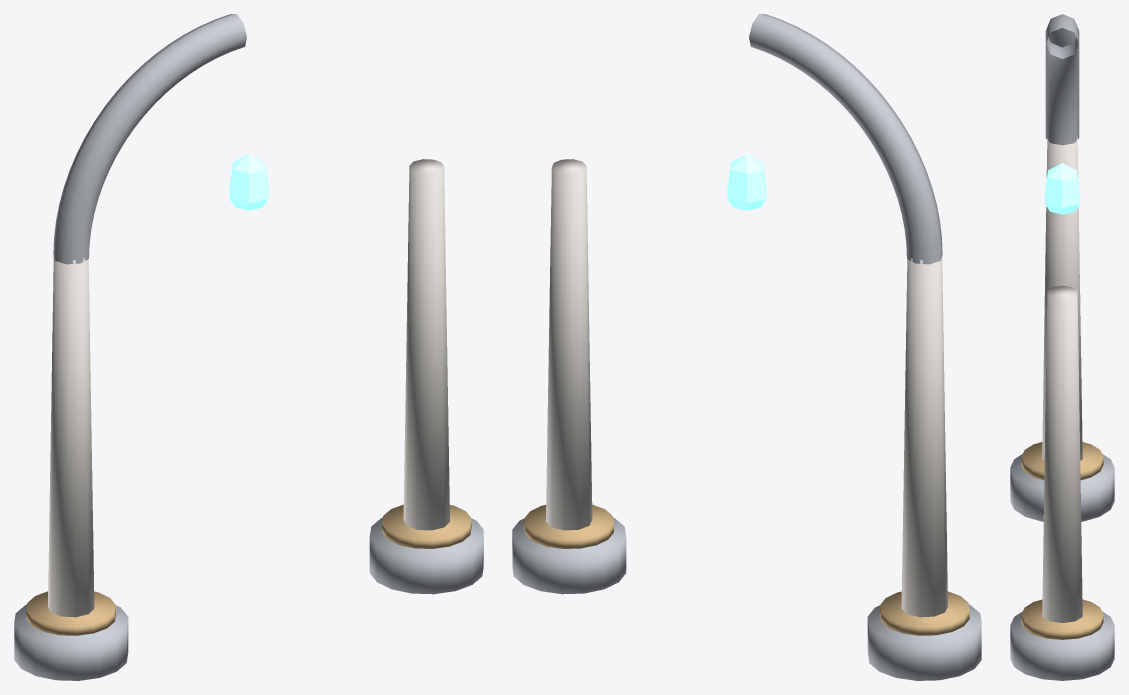
File: arc_broken_lyre_gate.glb
3 renders of one model, left to right at view 1: azimuth 30°, elevation 25°; view 2: azimuth 150°, elevation 25°; view 3: azimuth 270°, elevation 25°, orthographic. The views are drawn at different scales.
Visible parts, largest first — view 1: ARC_broken_lyre_gate_post_1, ARC_broken_lyre_gate_post_0, ARC_broken_lyre_gate_broken_left, ARC_broken_lyre_gate_foot_0, ARC_broken_lyre_gate_foot_1, ARC_broken_lyre_gate_gold_base_0, ARC_broken_lyre_gate_gold_base_1, ARC_broken_lyre_gate_fracture; view 2: ARC_broken_lyre_gate_post_1, ARC_broken_lyre_gate_post_0, ARC_broken_lyre_gate_broken_left, ARC_broken_lyre_gate_foot_0, ARC_broken_lyre_gate_foot_1, ARC_broken_lyre_gate_gold_base_0, ARC_broken_lyre_gate_gold_base_1, ARC_broken_lyre_gate_fracture; view 3: ARC_broken_lyre_gate_post_1, ARC_broken_lyre_gate_foot_1, ARC_broken_lyre_gate_post_0, ARC_broken_lyre_gate_broken_left, ARC_broken_lyre_gate_foot_0, ARC_broken_lyre_gate_gold_base_1, ARC_broken_lyre_gate_fracture, ARC_broken_lyre_gate_gold_base_0.
Boxes of the visible parts, x1=… form: ARC_broken_lyre_gate_post_1: x1=403, y1=159, x2=449, y2=530; ARC_broken_lyre_gate_post_0: x1=48, y1=252, x2=94, y2=617; ARC_broken_lyre_gate_broken_left: x1=53, y1=14, x2=246, y2=264; ARC_broken_lyre_gate_foot_0: x1=14, y1=604, x2=128, y2=680; ARC_broken_lyre_gate_foot_1: x1=369, y1=517, x2=483, y2=594; ARC_broken_lyre_gate_gold_base_0: x1=26, y1=591, x2=115, y2=635; ARC_broken_lyre_gate_gold_base_1: x1=382, y1=504, x2=471, y2=548; ARC_broken_lyre_gate_fracture: x1=229, y1=154, x2=268, y2=210; ARC_broken_lyre_gate_post_1: x1=546, y1=159, x2=592, y2=530; ARC_broken_lyre_gate_post_0: x1=901, y1=252, x2=947, y2=617; ARC_broken_lyre_gate_broken_left: x1=749, y1=14, x2=942, y2=264; ARC_broken_lyre_gate_foot_0: x1=867, y1=604, x2=981, y2=680; ARC_broken_lyre_gate_foot_1: x1=512, y1=517, x2=626, y2=594; ARC_broken_lyre_gate_gold_base_0: x1=880, y1=591, x2=969, y2=635; ARC_broken_lyre_gate_gold_base_1: x1=524, y1=504, x2=613, y2=548; ARC_broken_lyre_gate_fracture: x1=727, y1=154, x2=766, y2=210; ARC_broken_lyre_gate_post_1: x1=1042, y1=285, x2=1082, y2=622; ARC_broken_lyre_gate_foot_1: x1=1010, y1=611, x2=1114, y2=680; ARC_broken_lyre_gate_post_0: x1=1042, y1=137, x2=1082, y2=460; ARC_broken_lyre_gate_broken_left: x1=1045, y1=14, x2=1079, y2=145; ARC_broken_lyre_gate_foot_0: x1=1010, y1=454, x2=1114, y2=521; ARC_broken_lyre_gate_gold_base_1: x1=1021, y1=599, x2=1103, y2=639; ARC_broken_lyre_gate_fracture: x1=1044, y1=163, x2=1080, y2=214; ARC_broken_lyre_gate_gold_base_0: x1=1021, y1=442, x2=1103, y2=480.
Size of the model in its own units: 2.56 by 3.24 by 0.56.
